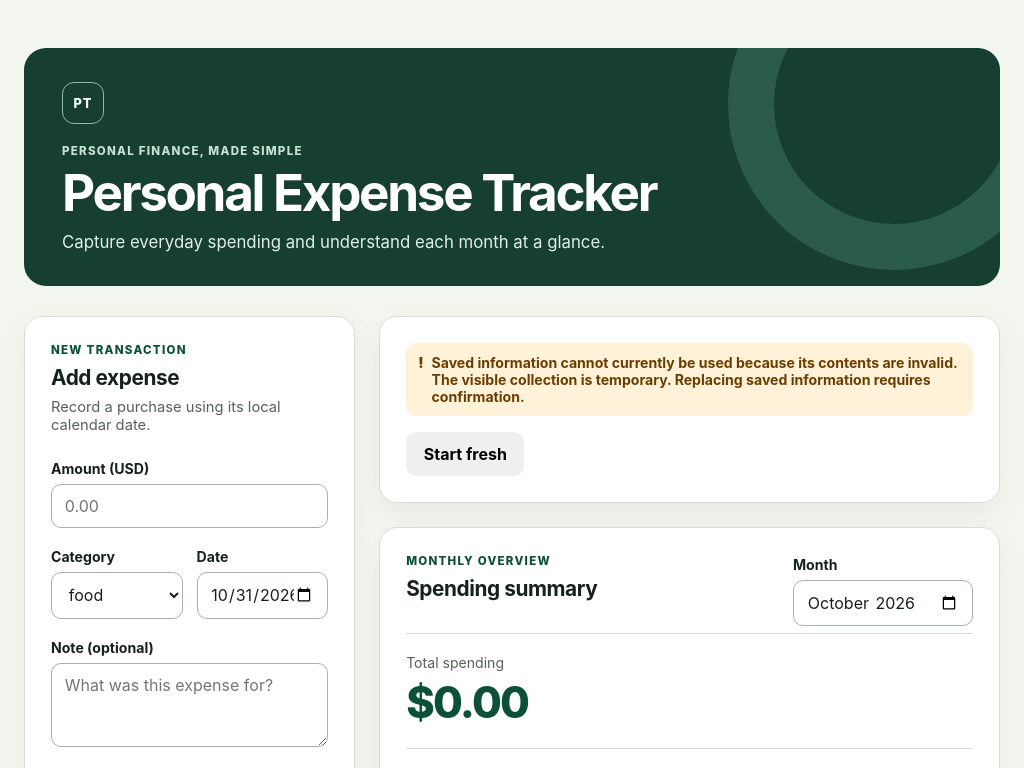
guarded recovery replacements › RECOVERY-003: failed start fresh retains guarded empty memory and never retries automatically
What coordinates should you click on to do the following:
click the button "Start fresh"
I would click on:
 (465, 454)
Its box is [406,432,524,476].
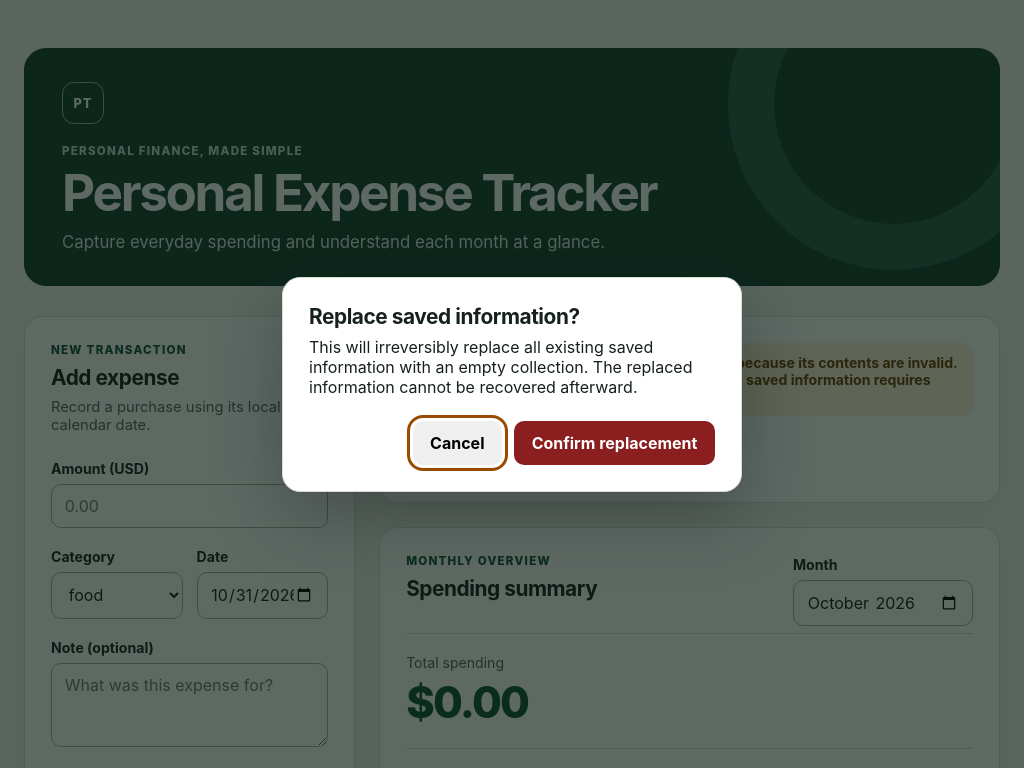
What coordinates should you click on to do the following:
click the button "Confirm replacement"
I would click on:
 (615, 442)
Its box is [514,420,715,464].
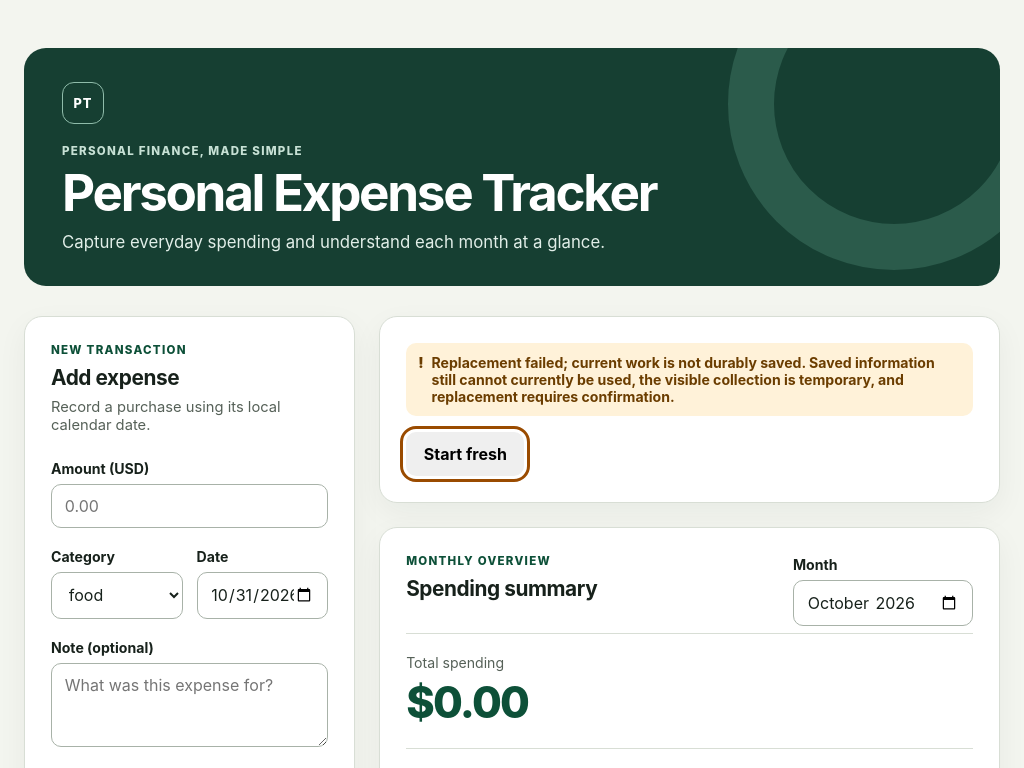
Check: the text named "Monthly total" reads "$0.00", box [406,676,528,728]
Check: the message named "Persistence status" shows "Replacement failed", box [432,354,935,405]
Check: the message named "Persistence status" shows "not durably saved", box [432,354,935,405]
